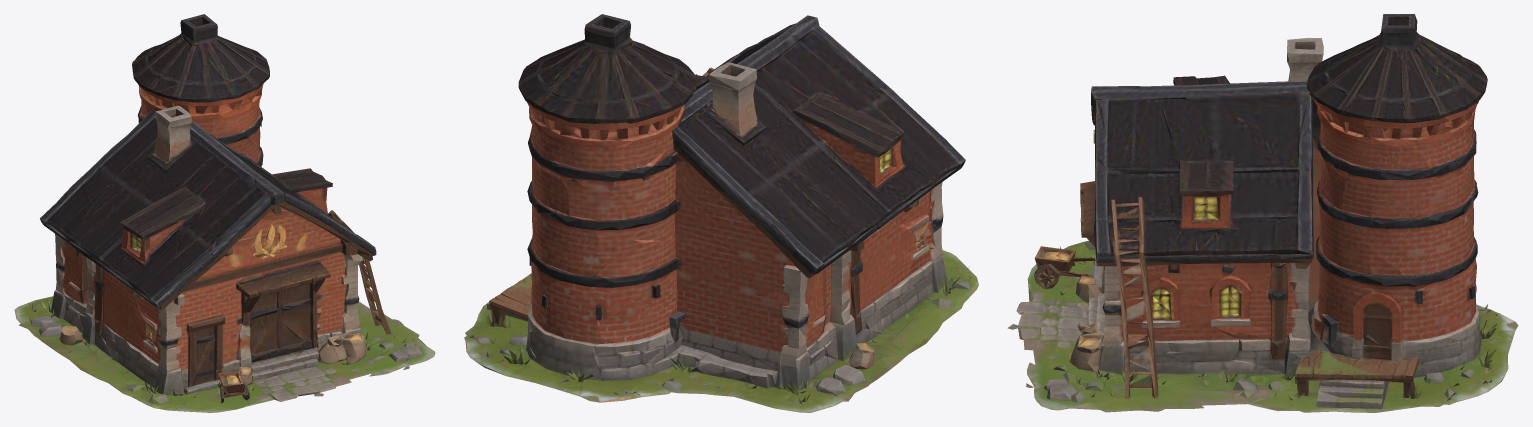
File: farmmill.glb
3 renders of one model, left to right at view 1: azimuth 30°, elevation 25°; view 2: azimuth 150°, elevation 25°; view 3: azimuth 270°, elevation 25°, orthographic. The views are drawn at different scales.
Bounding box in the file's own units: 1.6 × 1.34 × 1.9.
1 material, 1 textured.
